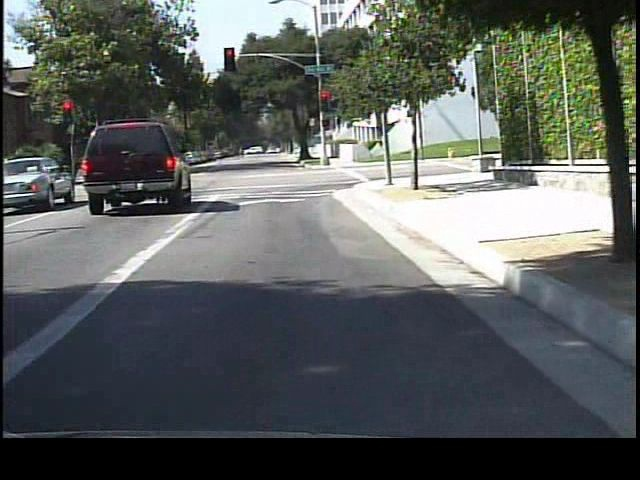person: (374, 132, 393, 167)
